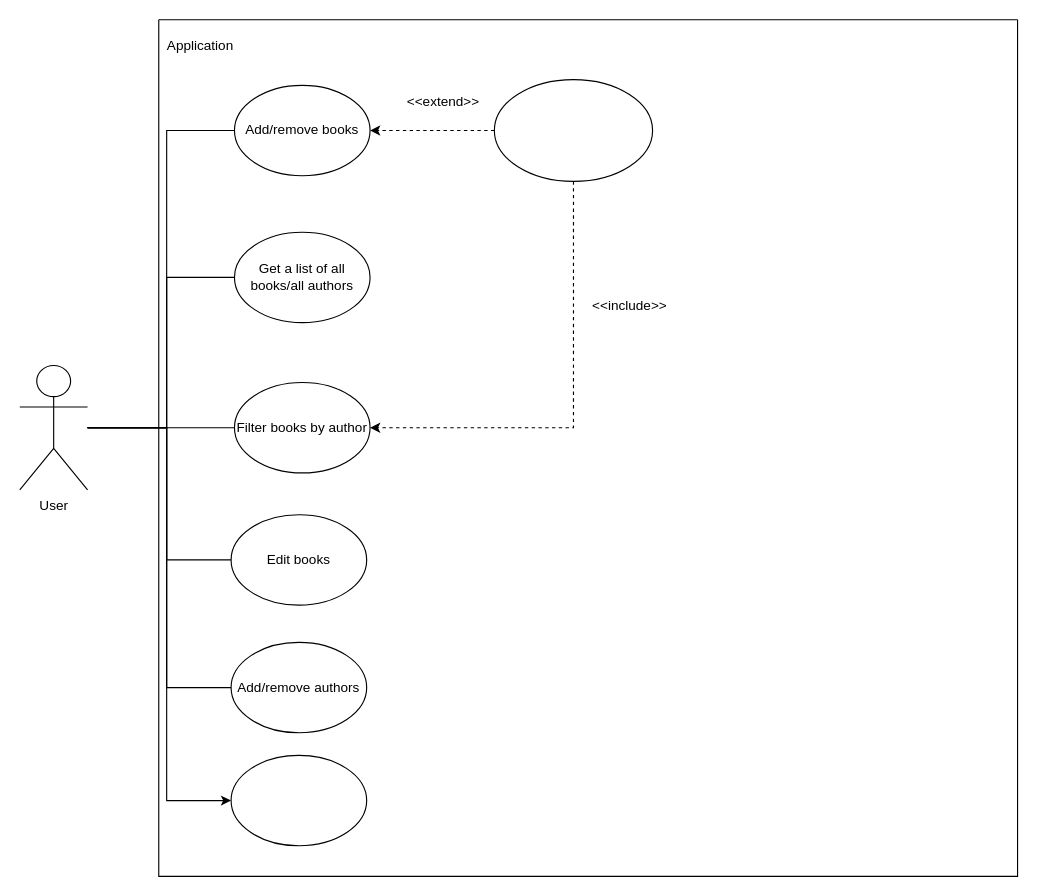
The diagram is 1037 pixels wide and 896 high, and some of its shapes have lost their labels. The shapes that lost their labels are listed below. From the top down, each one's box as (x1, y1, x2, y2) in pixels, then its label:
(493, 79, 653, 181): Assign an author to each book
(230, 754, 367, 846): Edit authors
